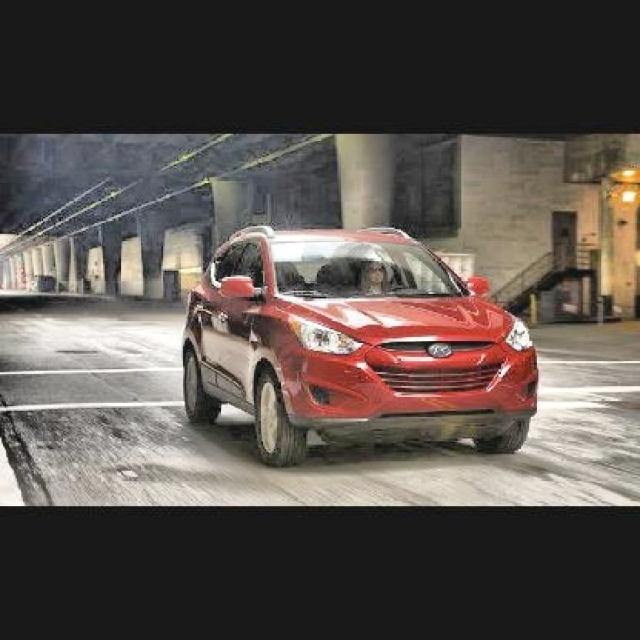red: (188, 211, 548, 458)
